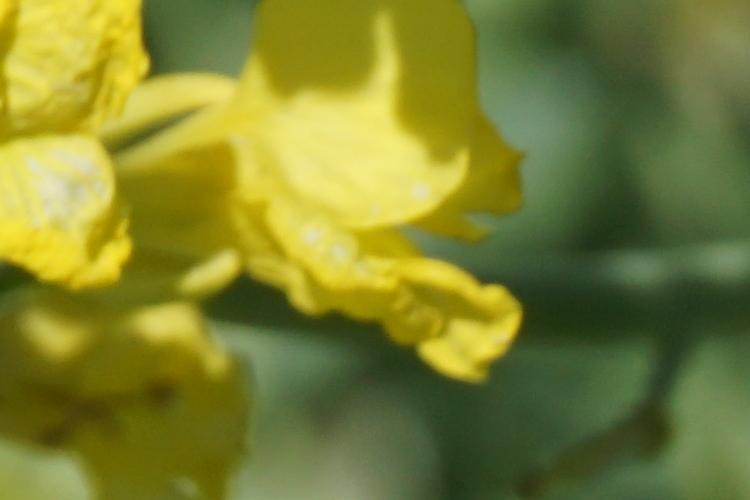yellow: (9, 9, 545, 364), (23, 303, 261, 493)
